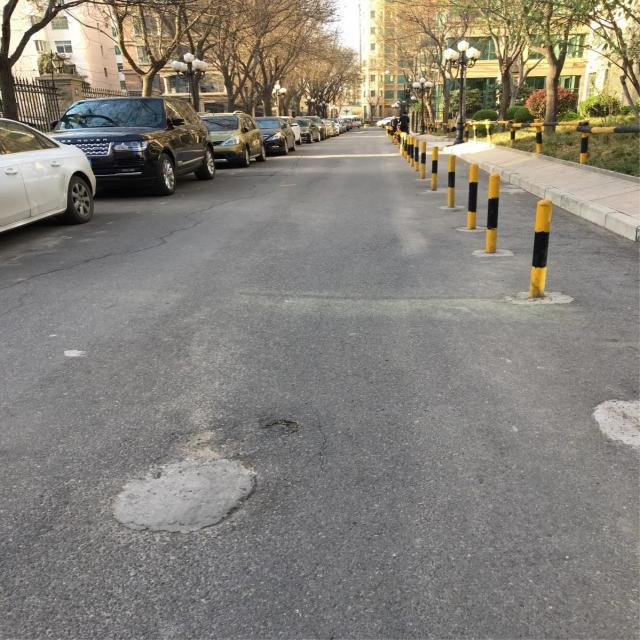Pothole: (117, 458, 258, 534), (591, 398, 639, 459), (258, 416, 304, 436)
